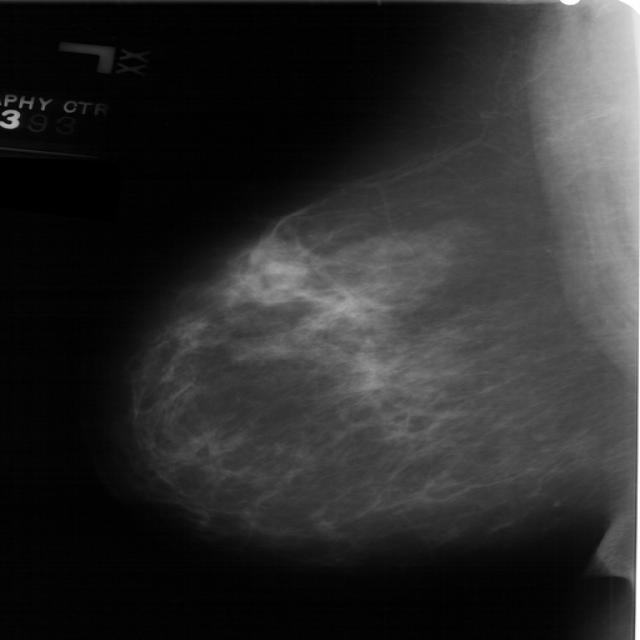tumour: (262, 258, 306, 289)
